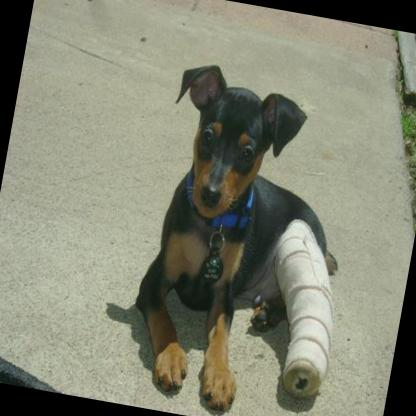miniature_pinscher: (117, 55, 384, 416)
